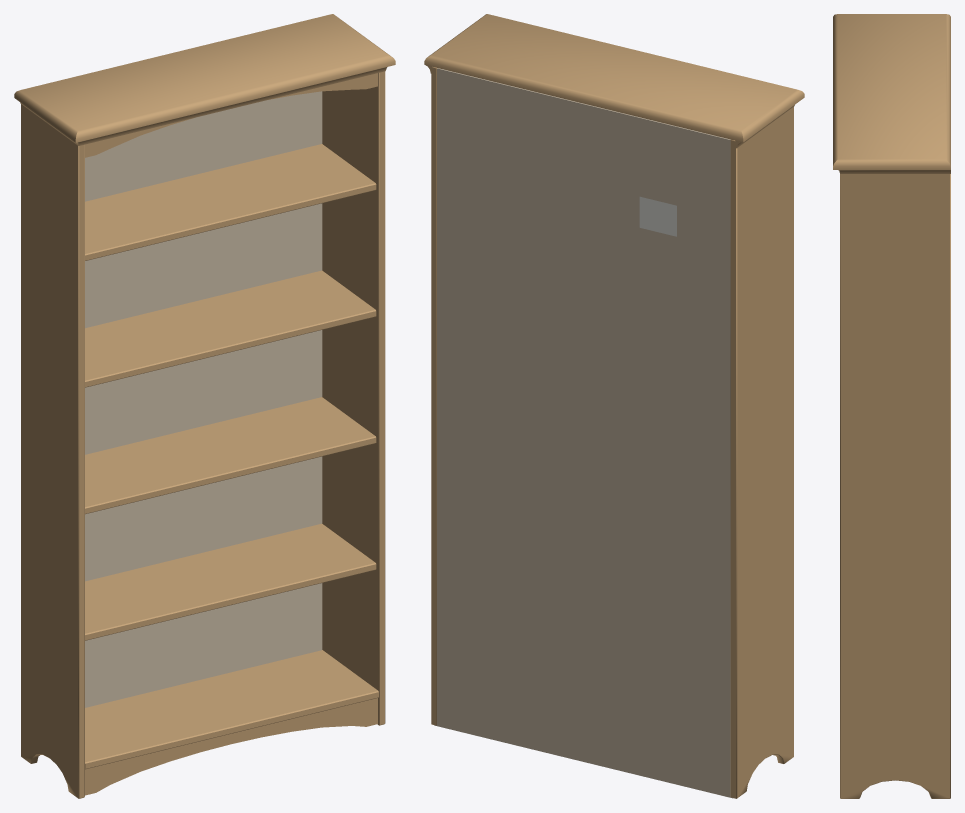
File: Kit_Bookcase.fbx
3 views of the same model, side by side, from view 1: azimuth 30°, elevation 25°; view 2: azimuth 150°, elevation 25°; view 3: azimuth 270°, elevation 25° (orthographic). The views are drawn at different scales.
Visible parts, largest first — view 1: Kit_Bookcase_LOD0; view 2: Kit_Bookcase_LOD0; view 3: Kit_Bookcase_LOD0.
Part boxes in pixels (box(x1,y1,x2,y2)): Kit_Bookcase_LOD0: box(14, 14, 395, 798); Kit_Bookcase_LOD0: box(424, 14, 804, 798); Kit_Bookcase_LOD0: box(833, 14, 950, 798).
Size of what is drawn, in the model's own units: 0.9 by 1.8 by 0.3.
